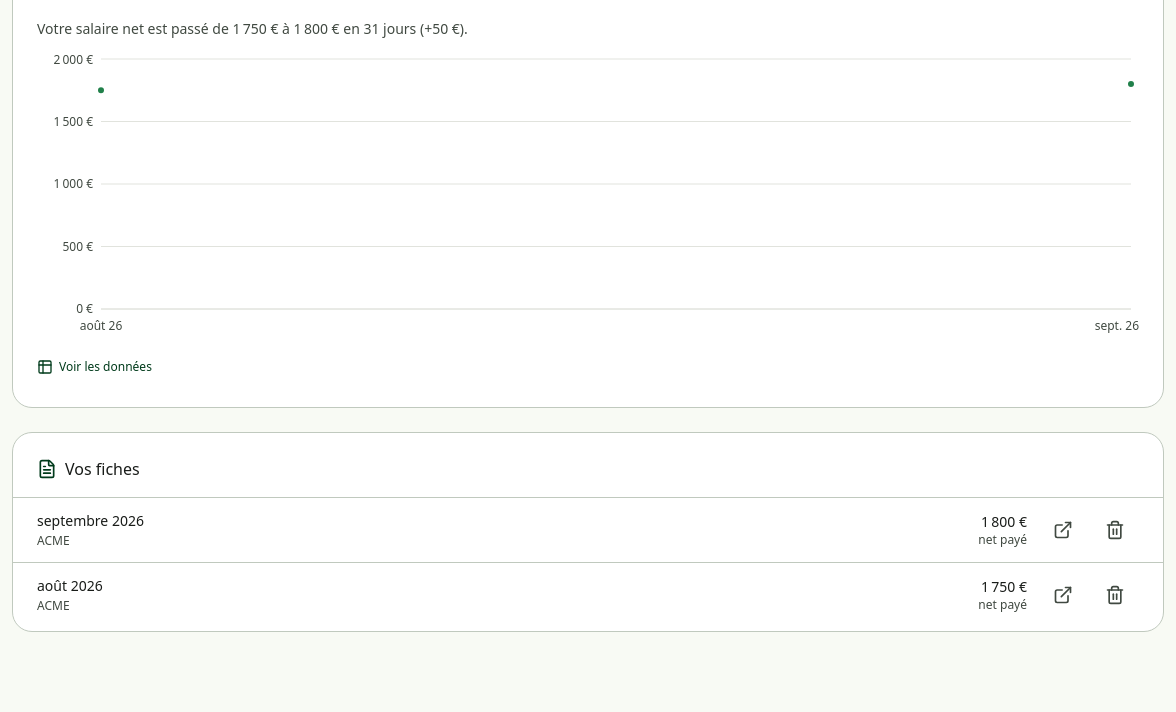
Test: Fiches de paie › retrait : la fiche disparaît et le focus va sur la fiche voisine
The width and height of the screenshot is (1176, 712).
(page scrolled)
Click the button named "Retirer la fiche de septembre 2026 de la liste".
click(1115, 530)  # box [1091,506,1139,554]
(page scrolled)
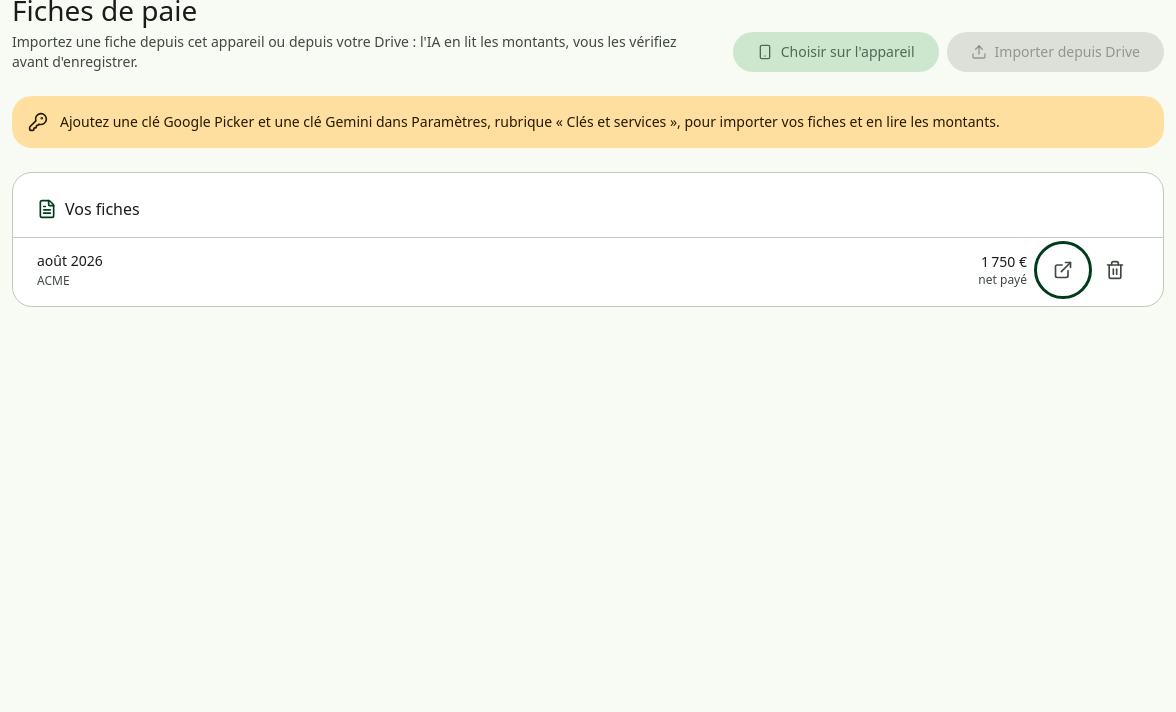
Expected: the text "septembre 2026" is gone
